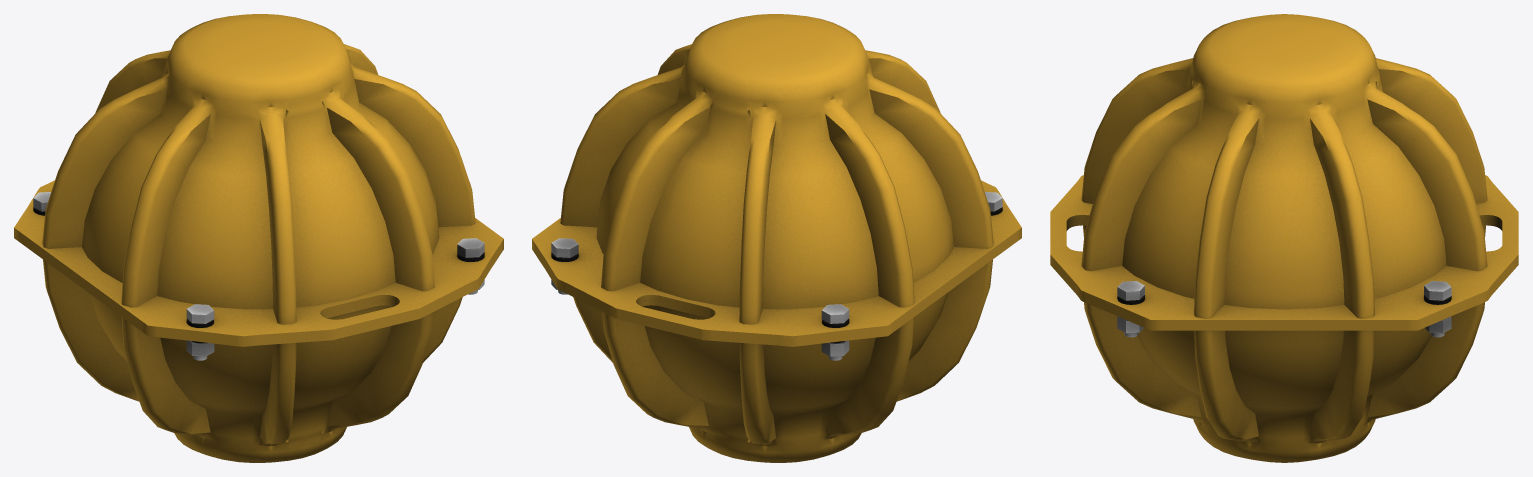
File: hardhat_octagonal.dae
3 renders of one model, left to right at view 1: azimuth 30°, elevation 25°; view 2: azimuth 150°, elevation 25°; view 3: azimuth 270°, elevation 25°, orthographic.
Parts seen in each view (by area): view 1: Hardhat - Super-Ribbed-Octagonal; view 2: Hardhat - Super-Ribbed-Octagonal; view 3: Hardhat - Super-Ribbed-Octagonal.
Part boxes in pixels (x1,y1,x2,y2): Hardhat - Super-Ribbed-Octagonal: (14, 14, 503, 462); Hardhat - Super-Ribbed-Octagonal: (532, 14, 1021, 462); Hardhat - Super-Ribbed-Octagonal: (1050, 14, 1518, 462).
Size of the model in its own units: 0.5001 by 0.5705 by 0.5295.
1 material, 1 textured.
